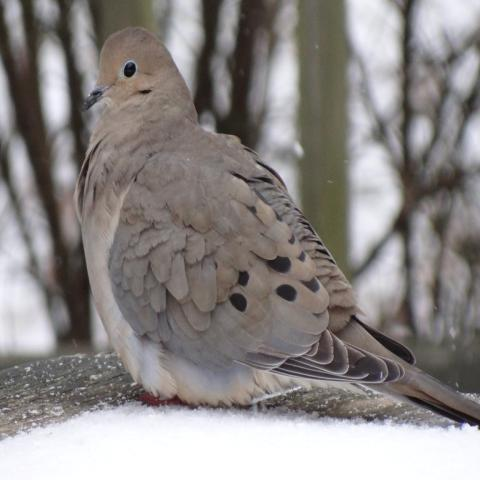bird: (71, 24, 477, 429)
